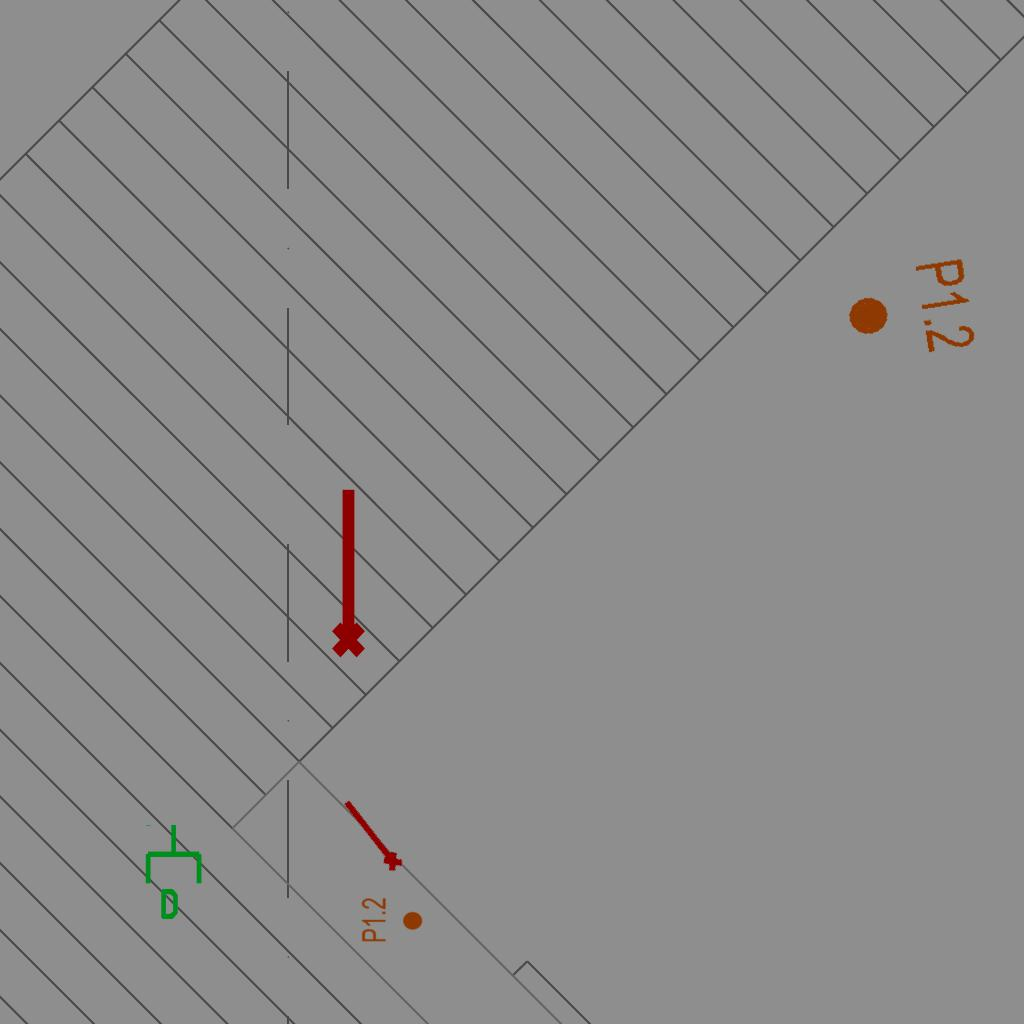ASR_Ansaugoeffnung: (323, 484, 369, 660), (334, 793, 408, 878)
Datenanschluss_einfach: (141, 822, 210, 922)
Downlight_LED_Einbauleuchten_Flur: (839, 255, 980, 367), (360, 897, 424, 943)
